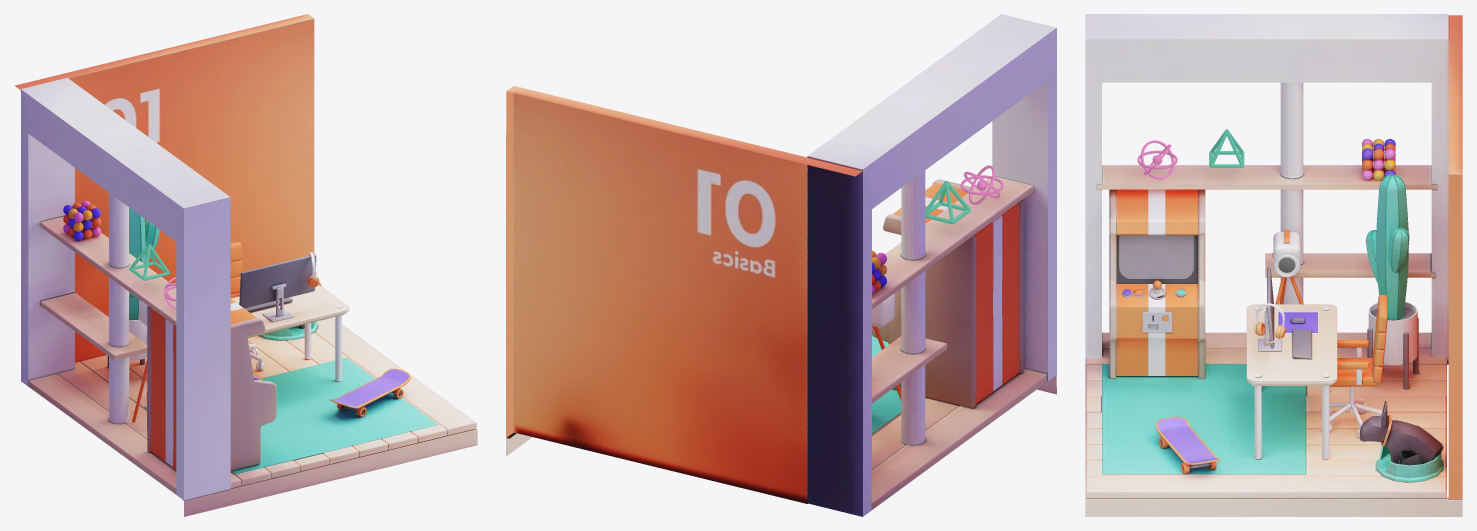
File: level-react-draco-transformed.glb
The picture shows the model from 3 angles, left to right: view 1: azimuth 30°, elevation 25°; view 2: azimuth 150°, elevation 25°; view 3: azimuth 270°, elevation 25°; orthographic projection. The views are drawn at different scales.
Parts seen in each view (by area): view 1: Level, Cactus, Pyramid; view 2: Level, Pyramid, React; view 3: Level, Cactus, Sudo, Camera.001, SudoHead, React, Pyramid.
Boxes of the visible parts, left/top/right/bottom form: Level: left=15, top=14, right=477, bottom=516; Cactus: left=129, top=208, right=159, bottom=320; Pyramid: left=129, top=244, right=170, bottom=280; Level: left=506, top=14, right=1056, bottom=516; Pyramid: left=925, top=180, right=970, bottom=224; React: left=960, top=165, right=1003, bottom=204; Level: left=1085, top=14, right=1462, bottom=516; Cactus: left=1365, top=174, right=1409, bottom=319; Sudo: left=1385, top=420, right=1443, bottom=465; Camera.001: left=1272, top=230, right=1300, bottom=277; SudoHead: left=1359, top=401, right=1391, bottom=445; React: left=1137, top=140, right=1177, bottom=179; Pyramid: left=1209, top=129, right=1244, bottom=167.
Bounding box in the file's own units: 2 × 2.01 × 2.
4 materials, 1 textured.
